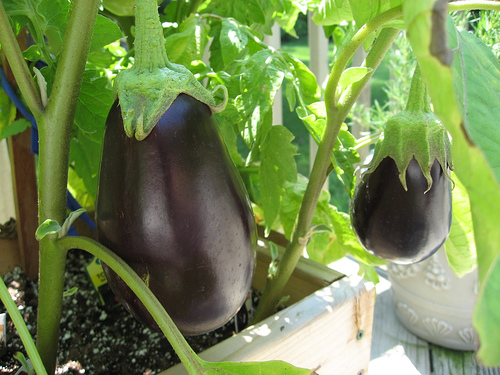eggplant: (88, 45, 266, 341), (350, 83, 454, 264)
